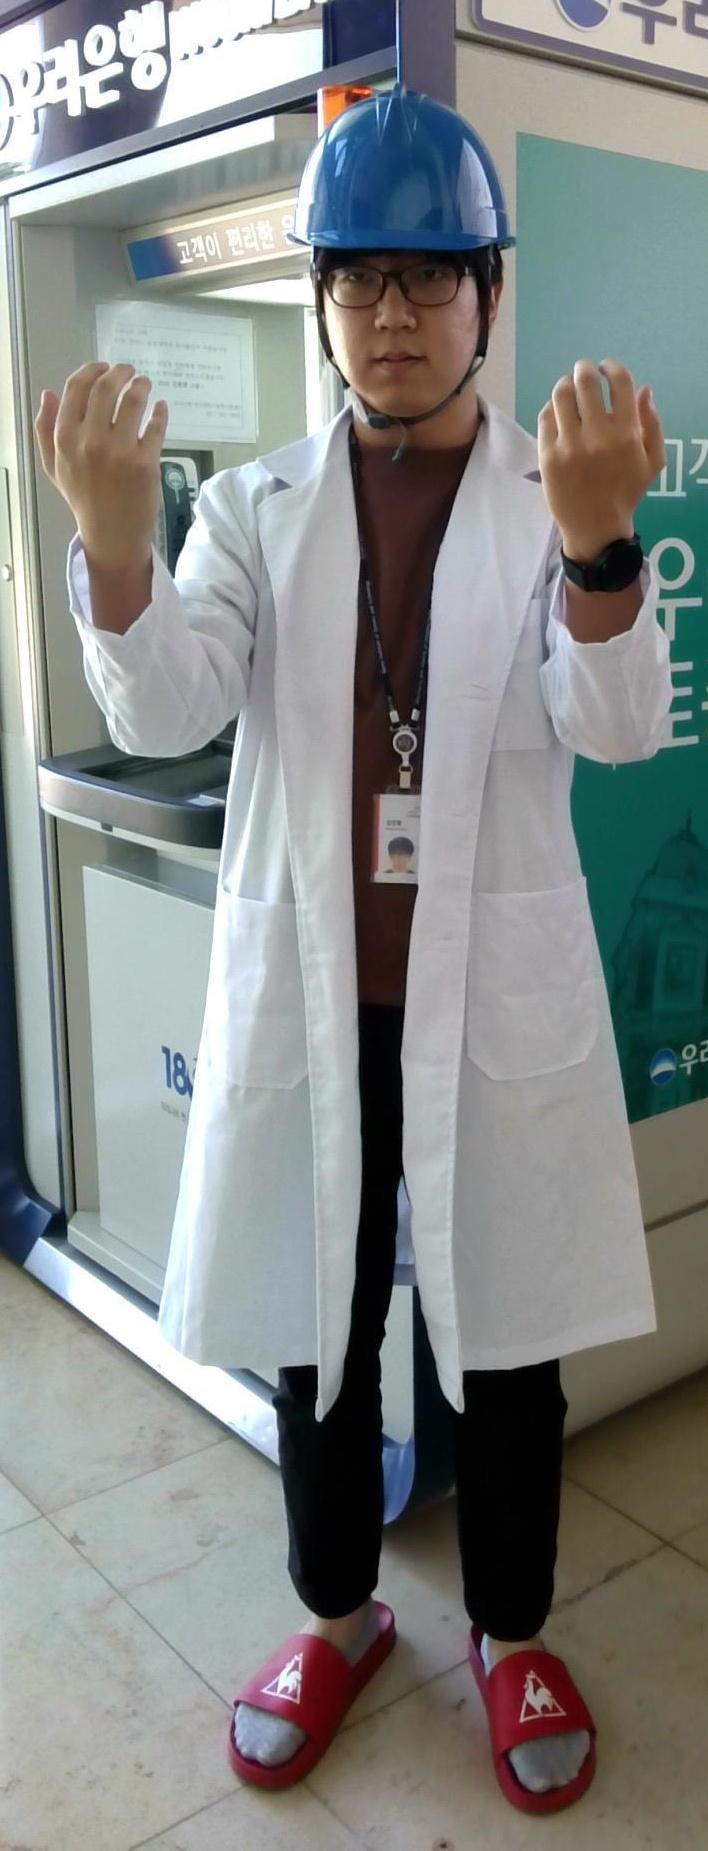lab_coat: (173, 440, 544, 1388)
